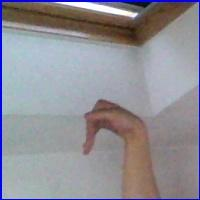del: (82, 93, 148, 166)
